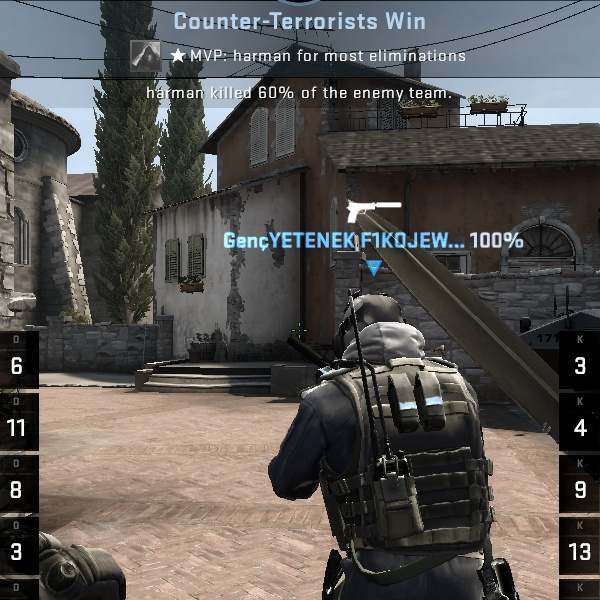ct_body: (250, 282, 528, 594)
ct_head: (328, 282, 433, 393)
